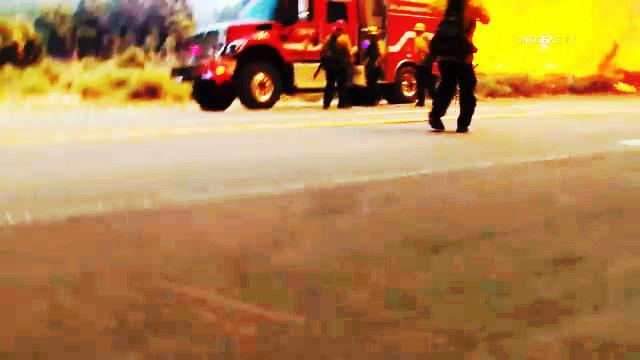fire: (494, 2, 633, 77)
